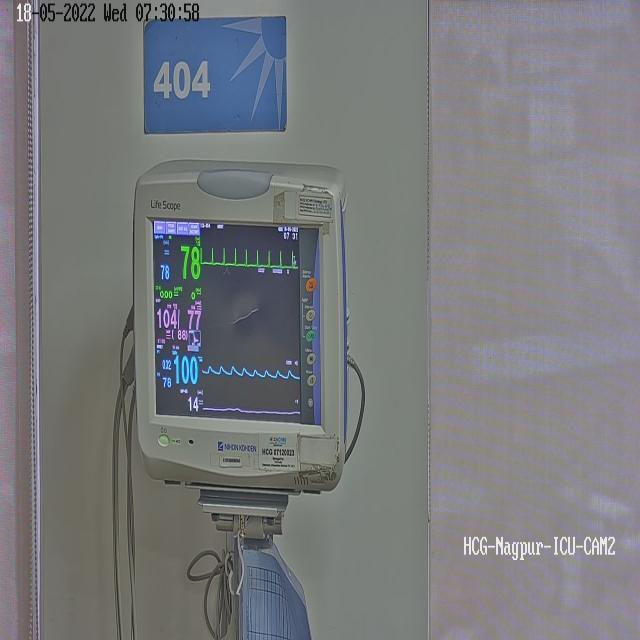Monitor: (131, 157, 349, 496)
